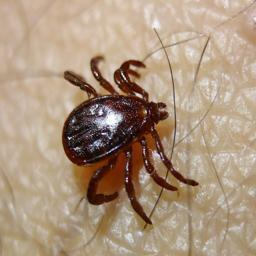Rhipicephalus sanguineus: (61, 55, 200, 225)
